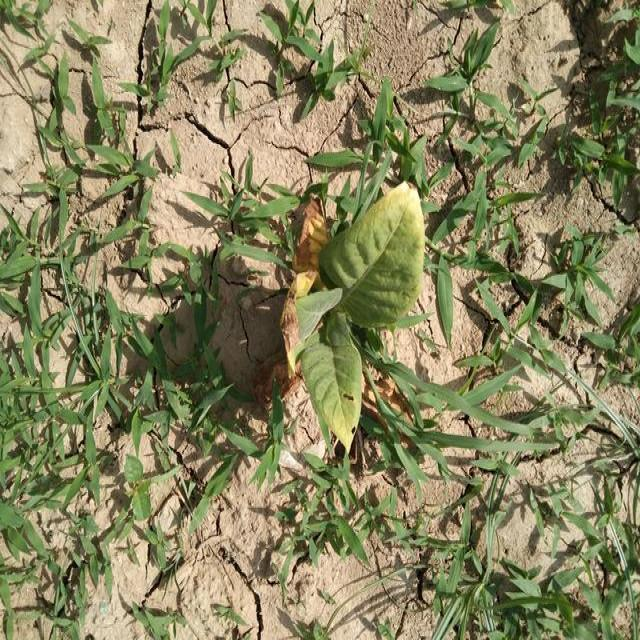crop: (292, 158, 429, 482)
